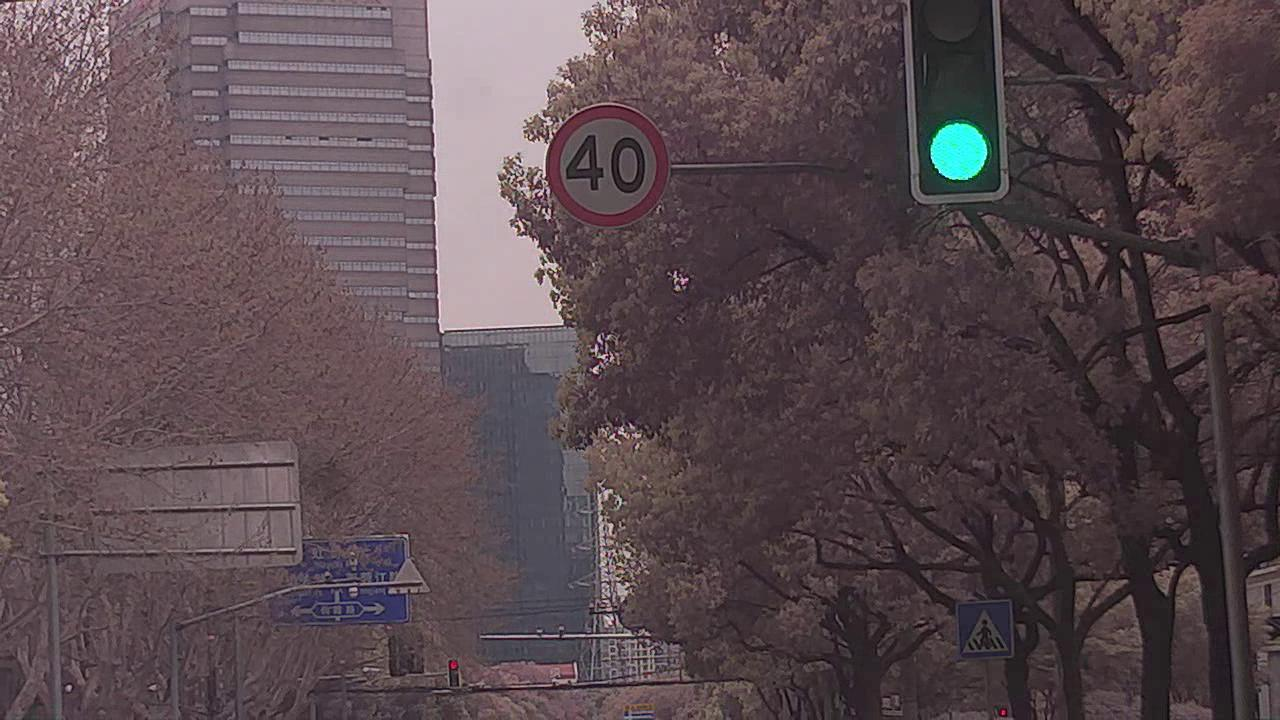traffic_light: (908, 11, 1002, 202), (447, 658, 463, 687)
